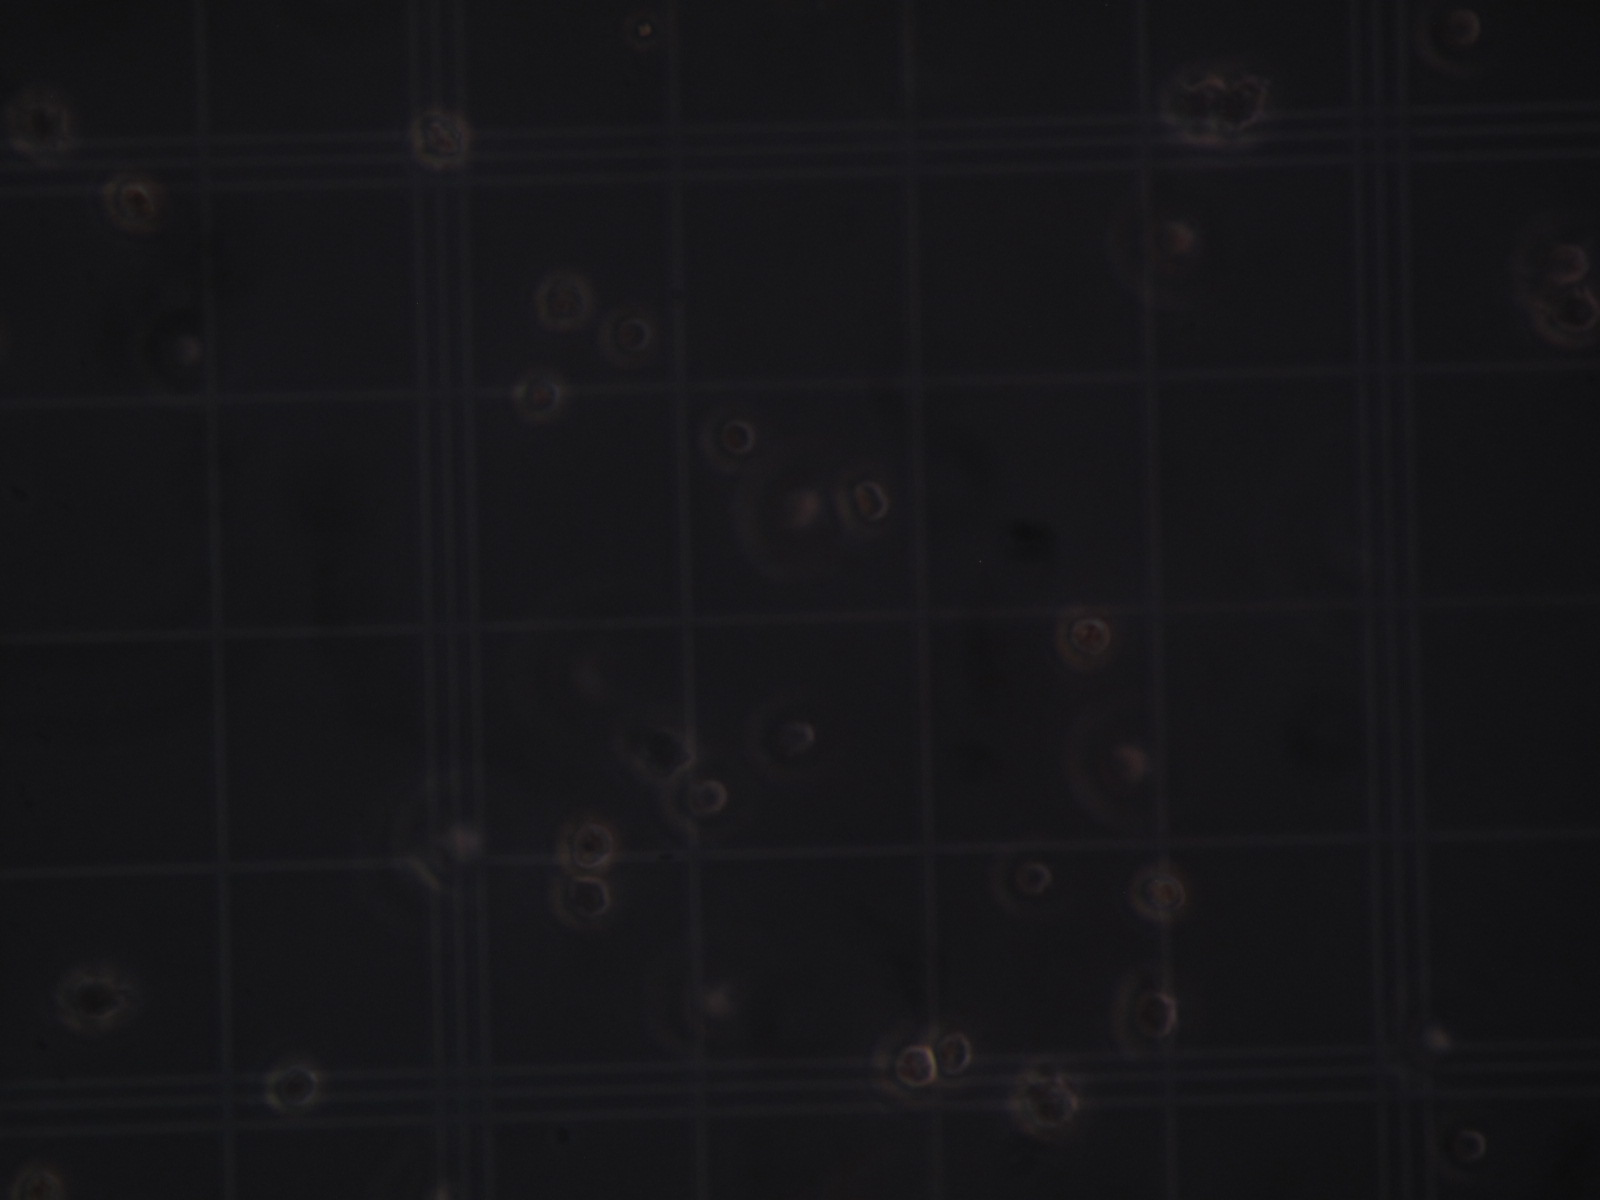hemo: (1158, 72, 1270, 149), (1507, 218, 1591, 308), (1110, 971, 1178, 1063), (745, 700, 815, 782), (1414, 1, 1483, 76), (871, 1030, 939, 1104), (661, 766, 729, 839), (1009, 1070, 1078, 1139), (991, 842, 1052, 918), (5, 98, 71, 166), (55, 971, 125, 1031), (1427, 1112, 1487, 1180), (698, 408, 756, 475), (1536, 289, 1600, 347), (1054, 608, 1112, 669), (409, 111, 470, 169), (556, 817, 616, 875), (551, 874, 612, 929), (837, 471, 889, 536), (926, 1020, 974, 1090), (101, 176, 159, 233), (535, 274, 591, 330), (600, 309, 653, 367), (1129, 868, 1187, 921), (265, 1063, 320, 1114), (513, 374, 563, 422), (11, 1166, 63, 1200)
